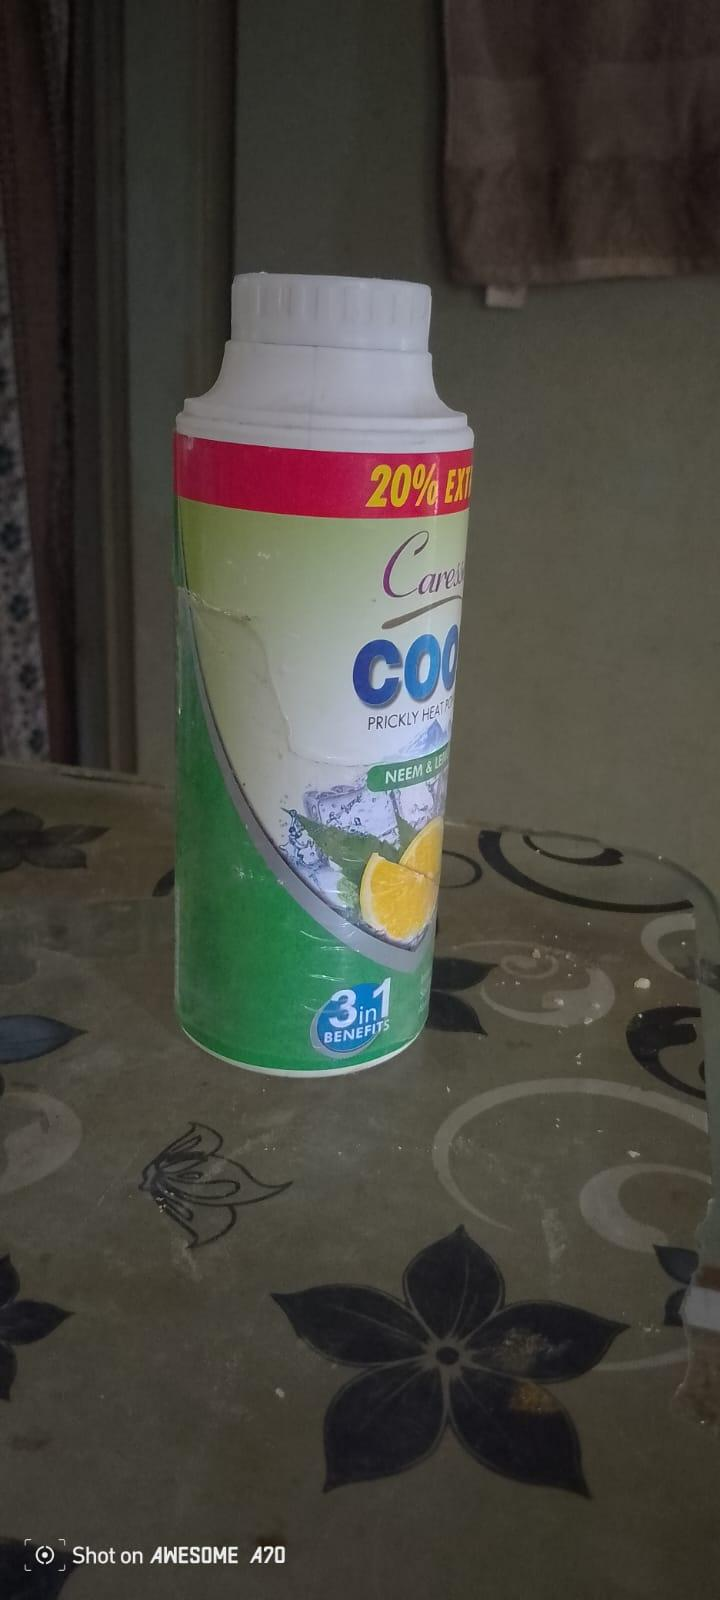non-mango: (165, 247, 526, 1098)
